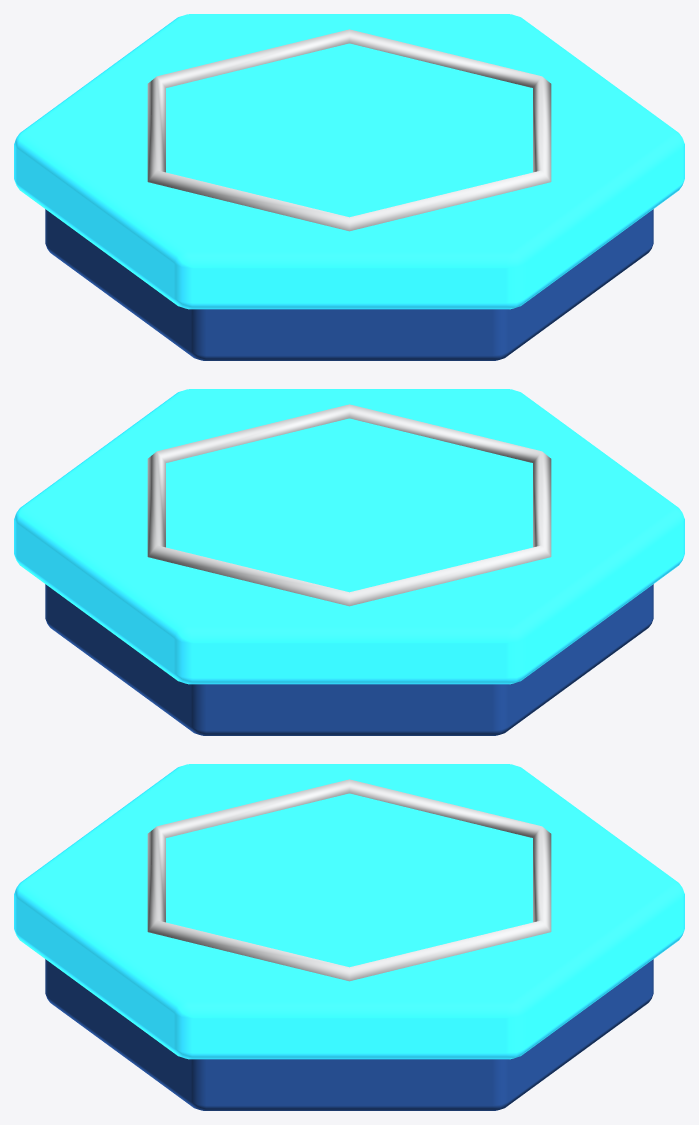
The model's file is PLAT_Timed.glb.
The picture shows the model from 3 angles, top to bottom: view 1: azimuth 30°, elevation 25°; view 2: azimuth 150°, elevation 25°; view 3: azimuth 270°, elevation 25°; orthographic projection.
Visible parts, largest first — view 1: Top, Base, Band; view 2: Top, Base, Band; view 3: Top, Base, Band.
Part boxes in pixels (bbox=[...]): Top: bbox=[14, 14, 684, 309]; Base: bbox=[45, 209, 653, 360]; Band: bbox=[147, 29, 551, 231]; Top: bbox=[14, 389, 684, 684]; Base: bbox=[45, 584, 653, 735]; Band: bbox=[147, 404, 551, 606]; Top: bbox=[14, 764, 684, 1059]; Base: bbox=[45, 959, 653, 1110]; Band: bbox=[147, 779, 551, 981].
Bounding box in the file's own units: 2.77 × 0.675 × 3.17.
